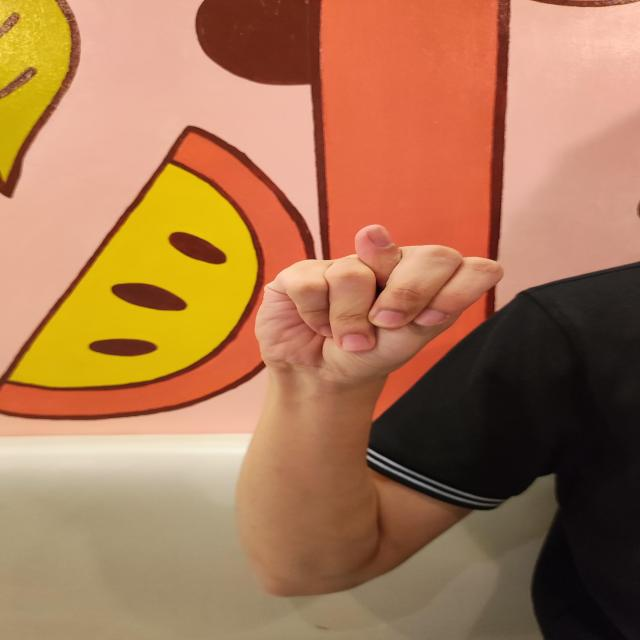N: (252, 222, 506, 382)
